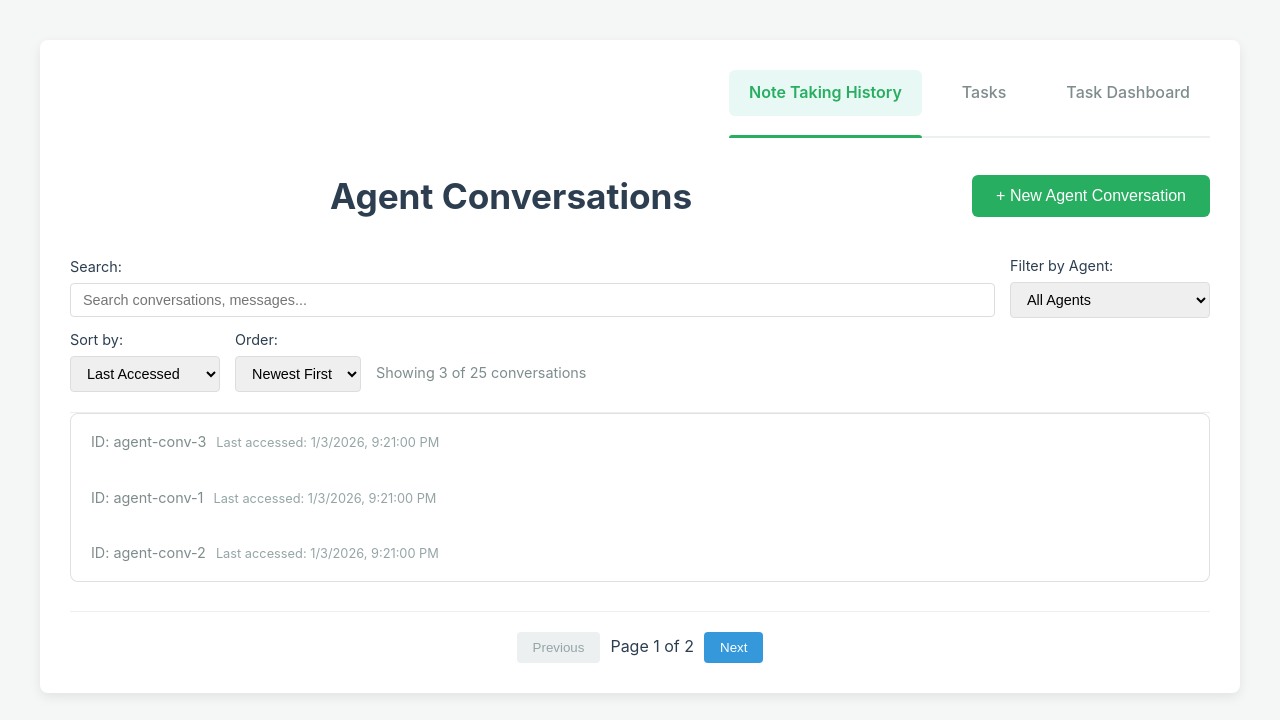
AgentConversationListView › Filtering › Edge cases › hides pagination controls when filters are active
Check: the text "Page 1 of 2" is shown, box x1=610 y1=634 x2=694 y2=660
Apply a filter
Type "agent-A" into the field labelled "Search:". click: (532, 300)
box: x1=70 y1=283 x2=995 y2=317
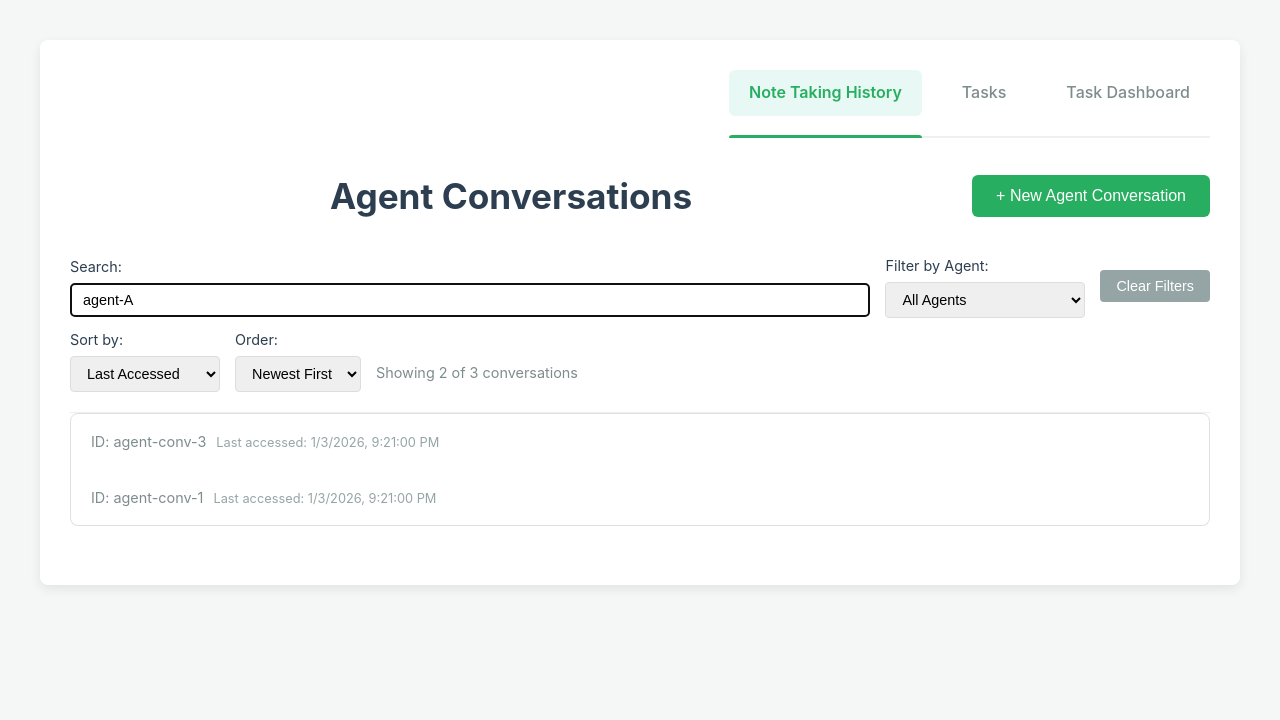
Check: the text "Page 1 of 2" is gone
Check: the button "Next" is gone
